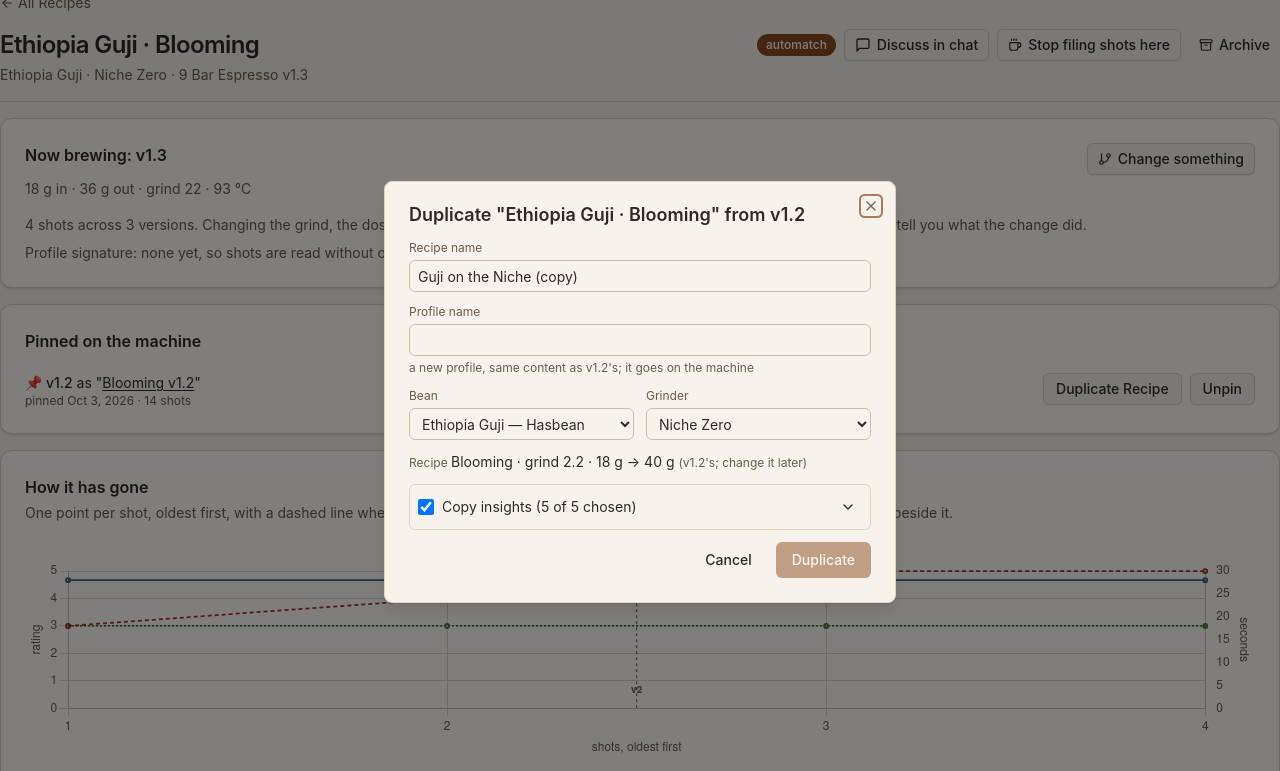
it: ?duplicate= › removes the parameter when the dialog closes, and stays on the Recipe page
This screenshot has width=1280, height=771.
Expected: the dialog with test id "duplicate-dialog" is shown, left=384, top=181, right=896, bottom=603
Click the button "Cancel" at (729, 560), box left=689, top=542, right=768, bottom=578
(page scrolled)
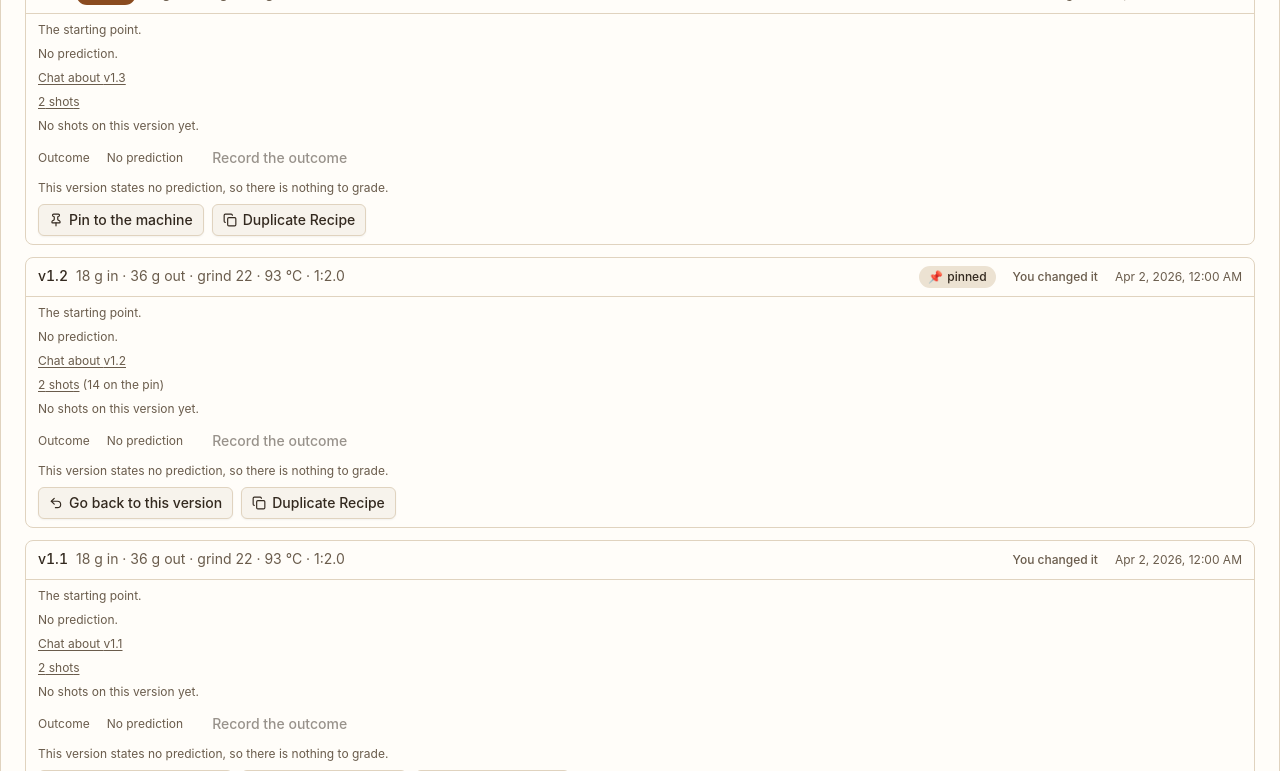
Expected: the dialog with test id "duplicate-dialog" is gone
